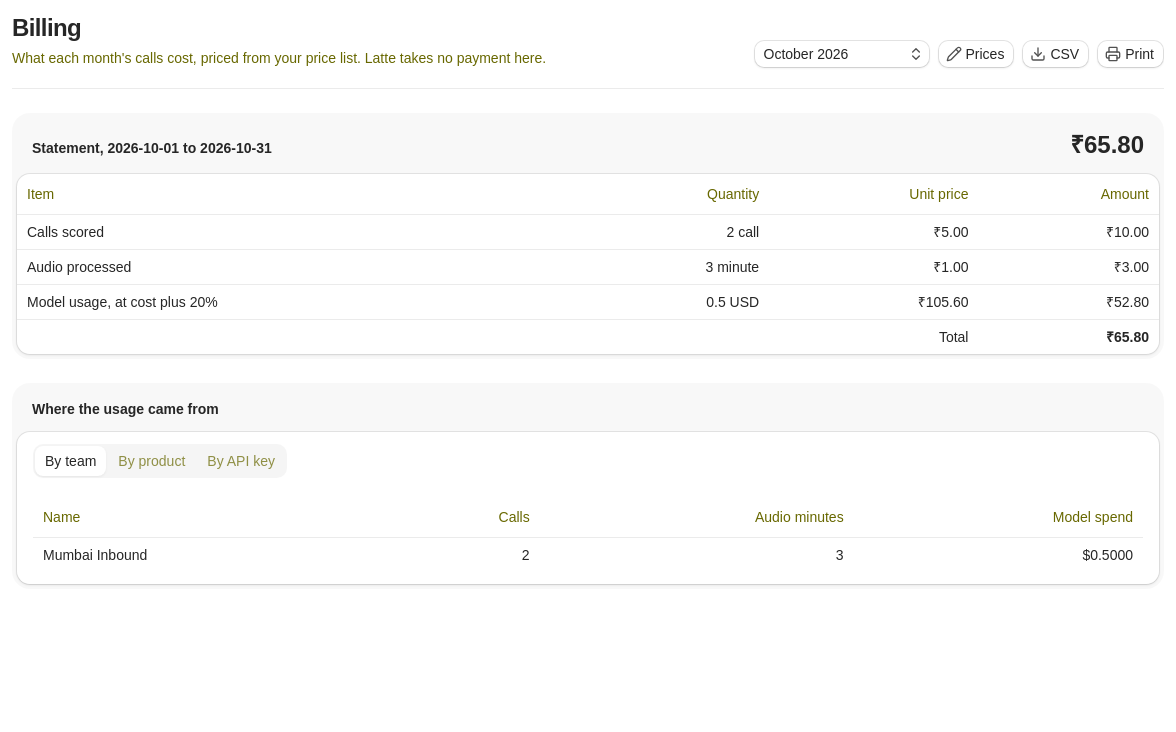
Test: billing › downloads the statement as CSV, and says when a breakdown is empty
Expected: the table named "Statement lines" is shown, left=17, top=174, right=1159, bottom=354
Click the button "CSV" at [1056, 54], box left=1022, top=40, right=1089, bottom=68
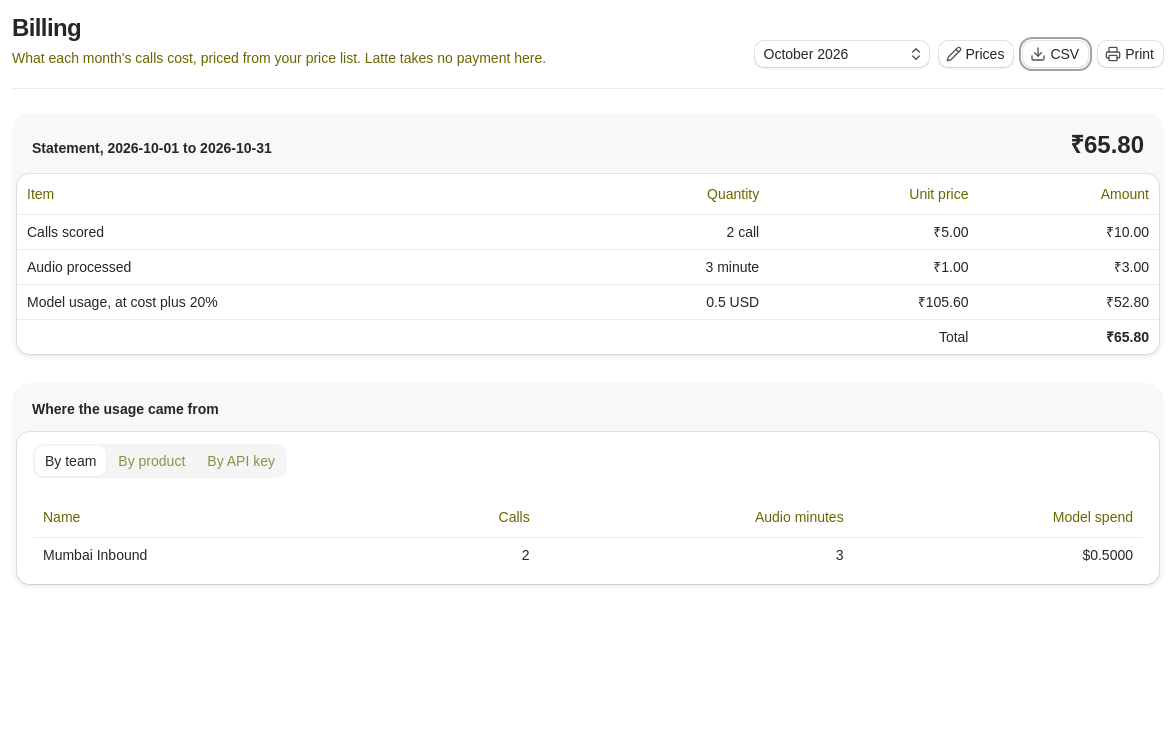
Click the tab "By product" at [152, 460], box left=108, top=446, right=195, bottom=476
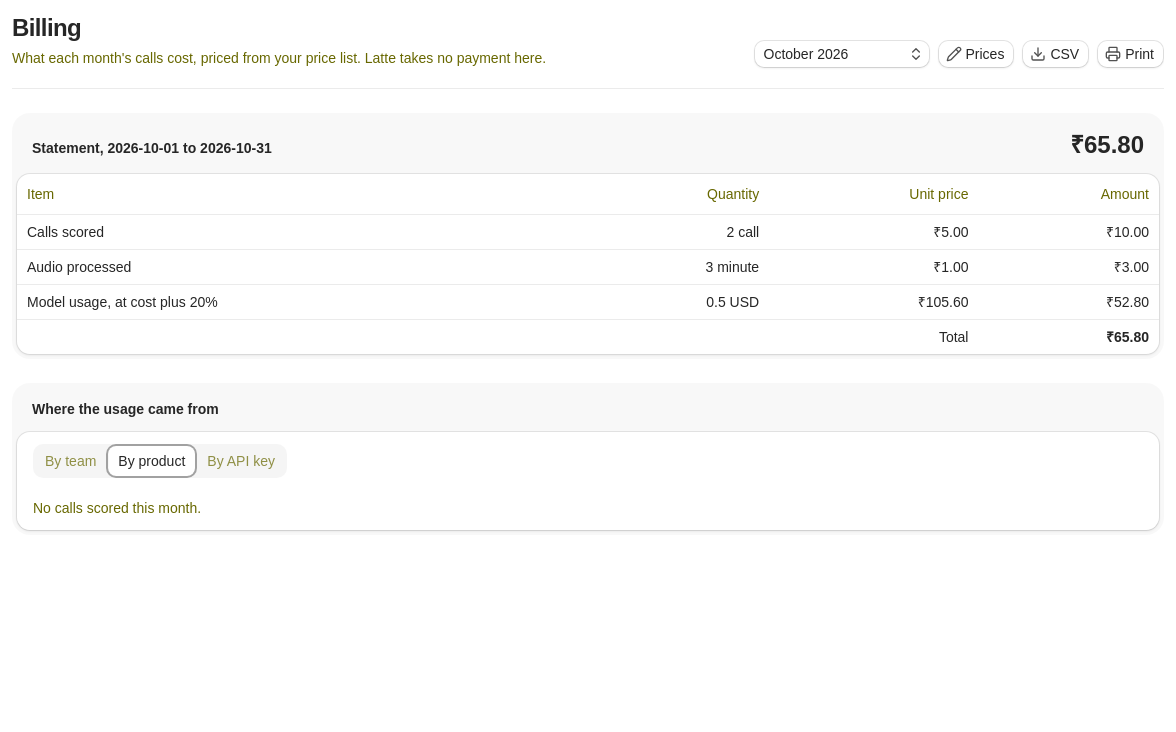
Expected: the text "No calls scored this month." is shown, left=33, top=500, right=201, bottom=516
